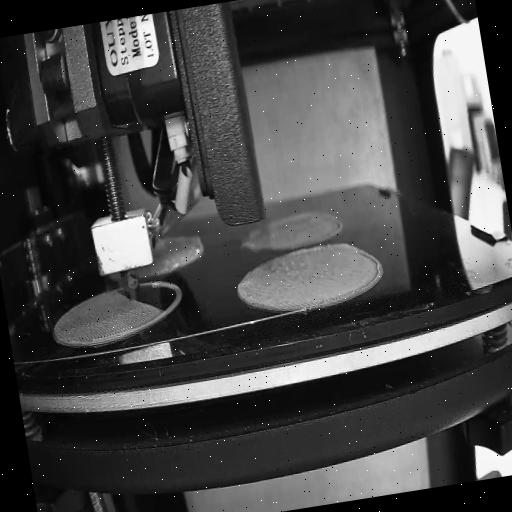over_extrusion: (357, 239, 387, 292)
